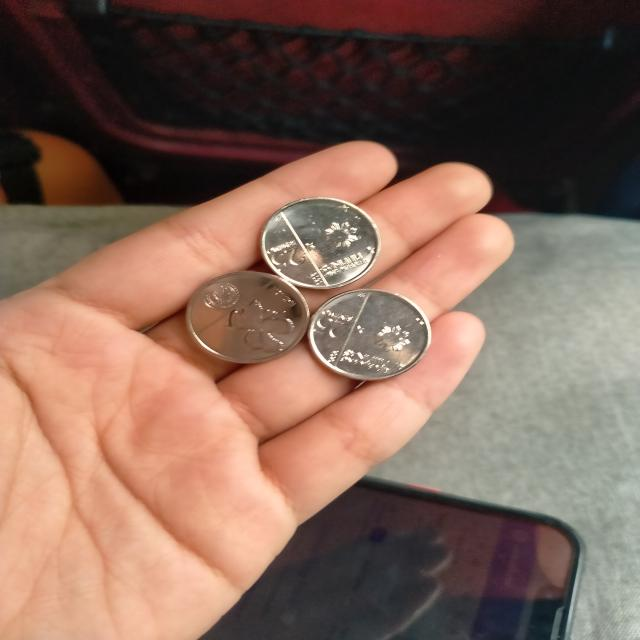25Cent_New_Back: (218, 290, 294, 352)
